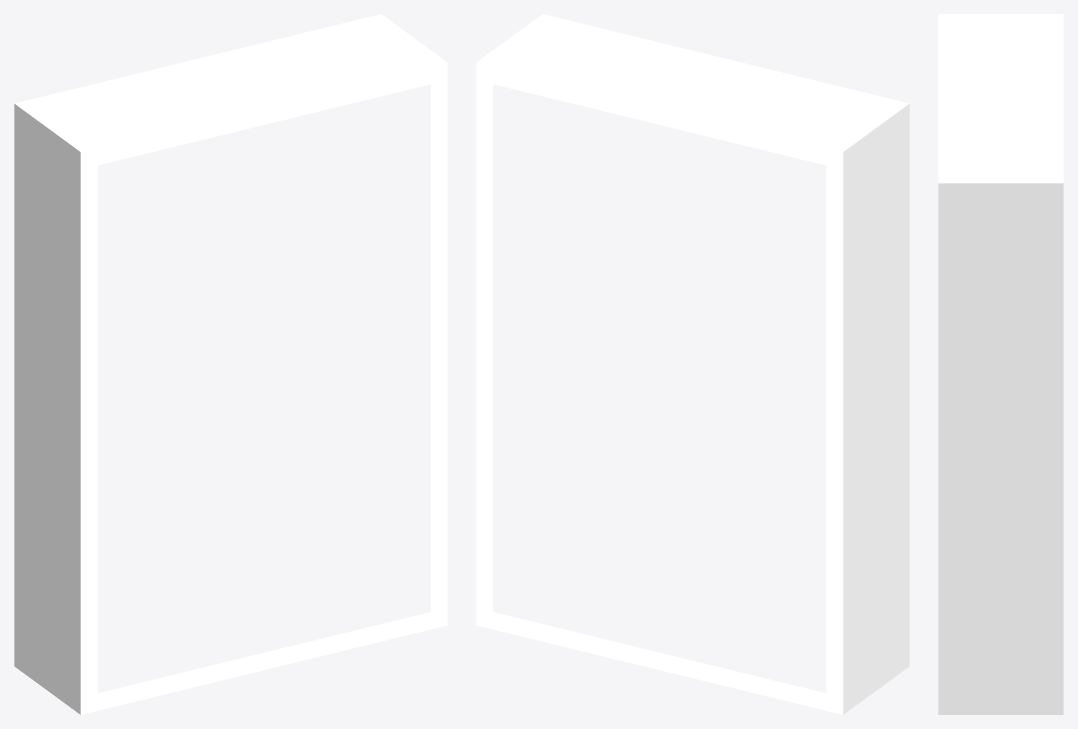
File: 123362b8-c83b-4cf7-a629-8ca51dbedc31.glb
3 views of the same model, side by side, from view 1: azimuth 30°, elevation 25°; view 2: azimuth 150°, elevation 25°; view 3: azimuth 270°, elevation 25° (orthographic). The views are drawn at different scales.
Visible parts, largest first — view 1: o_AlphaProta_White; view 2: o_AlphaProta_White; view 3: o_AlphaProta_White.
Boxes of the visible parts, box(x1,y1,x2,y2) form: o_AlphaProta_White: box(14, 14, 447, 714); o_AlphaProta_White: box(476, 14, 909, 714); o_AlphaProta_White: box(938, 14, 1063, 714).
Size of what is drawn, in the model's own units: 0.1436 by 0.2105 by 0.045.
2 materials, 2 textured.
